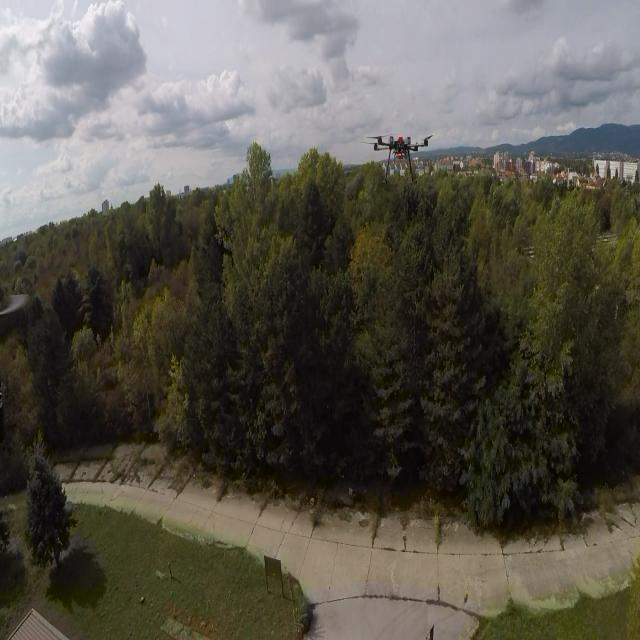UAV: (362, 129, 436, 187)
